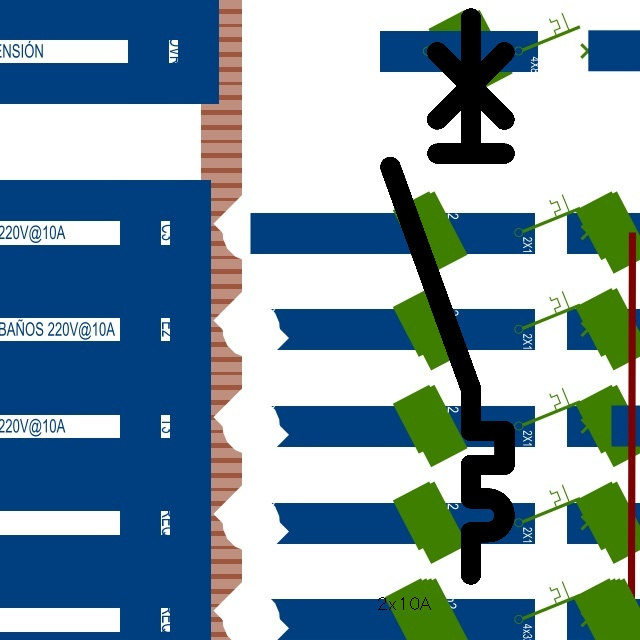interruptor_termomagnetico: (376, 4, 519, 589)
